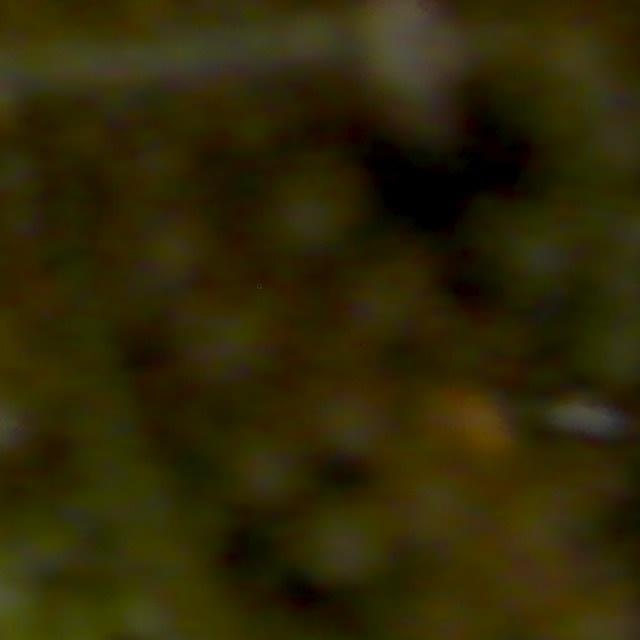SeaGrape: (253, 161, 361, 272), (341, 269, 437, 369), (292, 489, 387, 589), (184, 295, 275, 393), (215, 427, 309, 499), (310, 378, 393, 459), (113, 588, 175, 640)
